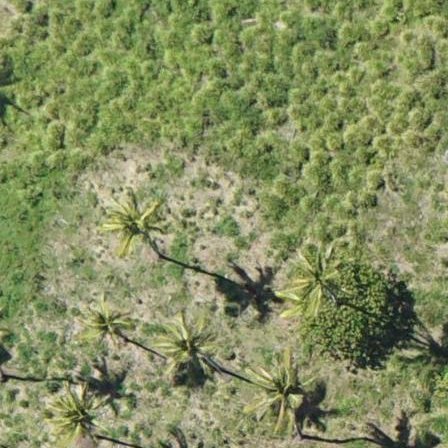palm_tree: (249, 351, 319, 427), (279, 247, 347, 320), (95, 184, 165, 252), (42, 375, 109, 446), (158, 313, 218, 377), (76, 289, 133, 346)
